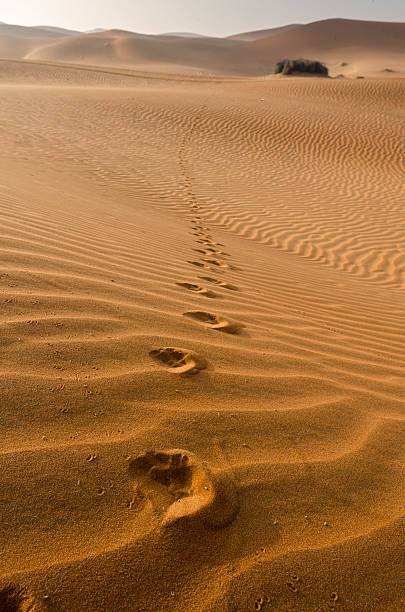animal_foot_print: (129, 449, 238, 528), (149, 347, 206, 373), (183, 311, 244, 333), (0, 585, 42, 611), (176, 282, 217, 298), (199, 276, 238, 290), (193, 247, 229, 256), (188, 260, 211, 269)
